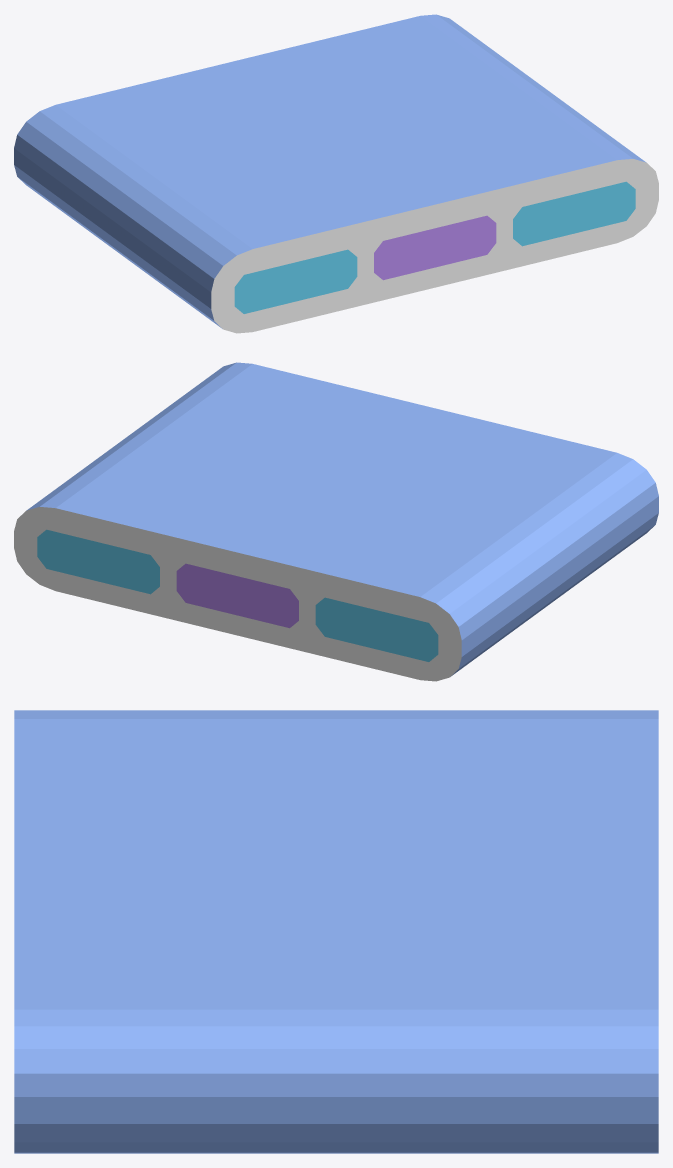
The model's file is Building_039_b.fbx.
The picture shows the model from 3 angles, top to bottom: view 1: azimuth 30°, elevation 25°; view 2: azimuth 150°, elevation 25°; view 3: azimuth 270°, elevation 25°; orthographic projection. The views are drawn at different scales.
Parts seen in each view (by area): view 1: Building_039_b; view 2: Building_039_b; view 3: Building_039_b.
Part boxes in pixels (left/top/right/bottom): Building_039_b: left=14, top=14, right=658, bottom=333; Building_039_b: left=14, top=362, right=658, bottom=681; Building_039_b: left=14, top=710, right=658, bottom=1153.
Bounding box in the file's own units: 27.63 × 4.9 × 21.1.
